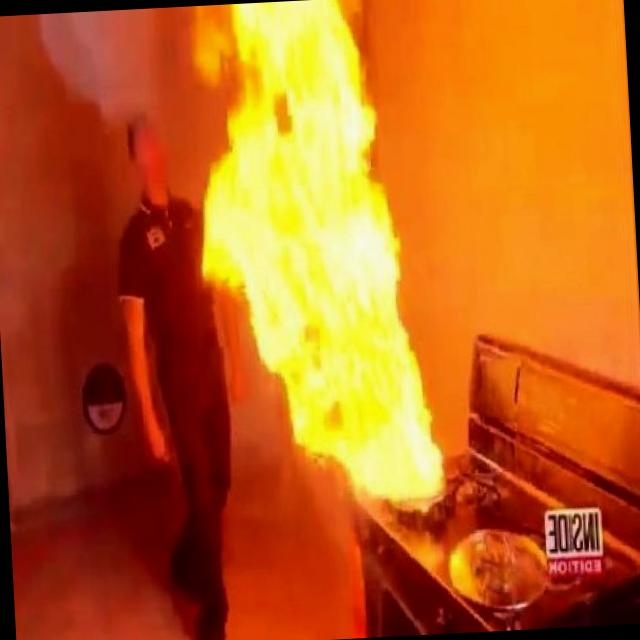fire: (158, 0, 489, 531)
